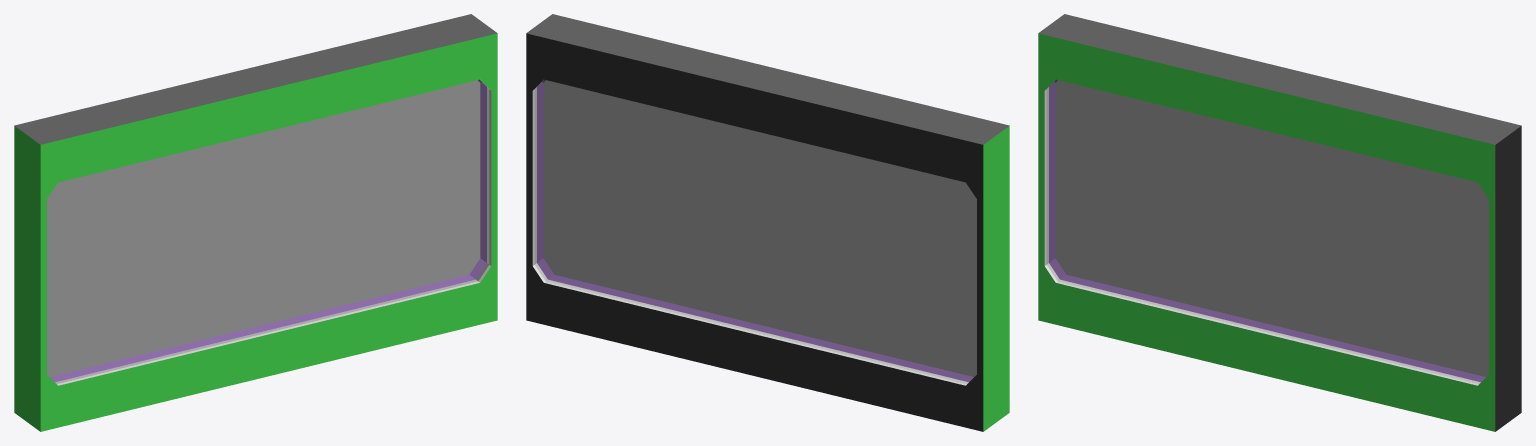
The model's file is Wall_Simple_5x3Window00.fbx.
The picture shows the model from 3 angles, left to right: view 1: azimuth 30°, elevation 25°; view 2: azimuth 150°, elevation 25°; view 3: azimuth 330°, elevation 25°; orthographic projection.
Parts seen in each view (by area): view 1: Wall_Simple_5x3Window00; view 2: Wall_Simple_5x3Window00; view 3: Wall_Simple_5x3Window00.
Boxes of the visible parts, x1,y1,x2,y2 form: Wall_Simple_5x3Window00: (14, 14, 497, 431); Wall_Simple_5x3Window00: (526, 14, 1009, 431); Wall_Simple_5x3Window00: (1038, 14, 1521, 431).
Size of the model in its own units: 500 by 300 by 50.
